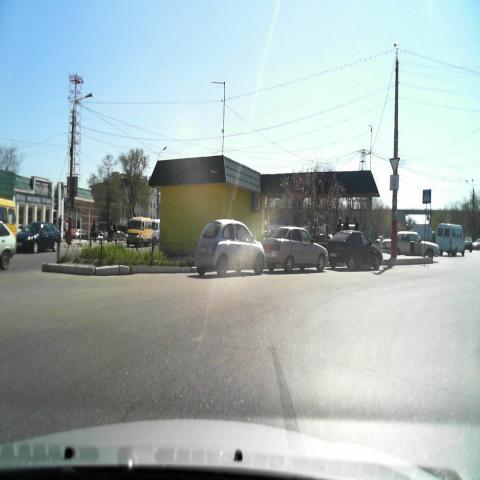2_4: (388, 156, 402, 175)
5_19_1: (420, 186, 432, 206)
8_13_1: (389, 175, 401, 192)
